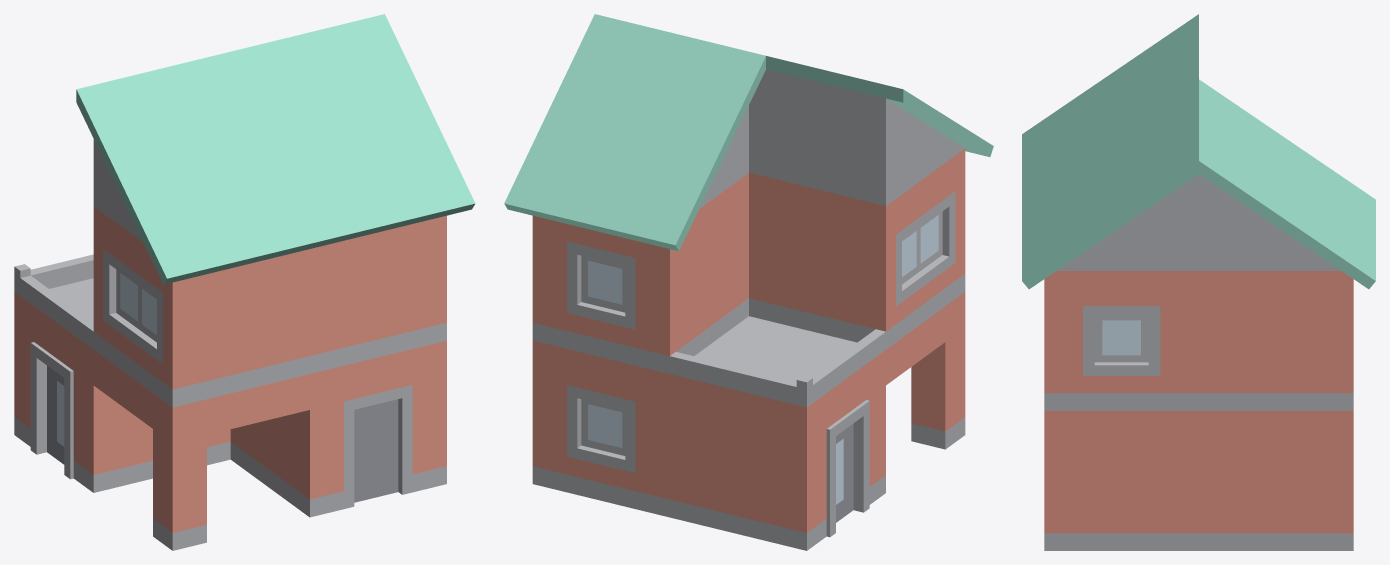
Rendered from house16.fbx.
3 views of the same model, side by side, from view 1: azimuth 30°, elevation 25°; view 2: azimuth 150°, elevation 25°; view 3: azimuth 270°, elevation 25° (orthographic). The views are drawn at different scales.
Visible parts, largest first — view 1: house_type16; view 2: house_type16; view 3: house_type16.
Part boxes in pixels (left/top/right/bottom): house_type16: left=14, top=14, right=475, bottom=550; house_type16: left=504, top=14, right=993, bottom=550; house_type16: left=1022, top=14, right=1375, bottom=550.
Bounding box in the file's own units: 900 × 1138 × 916.
